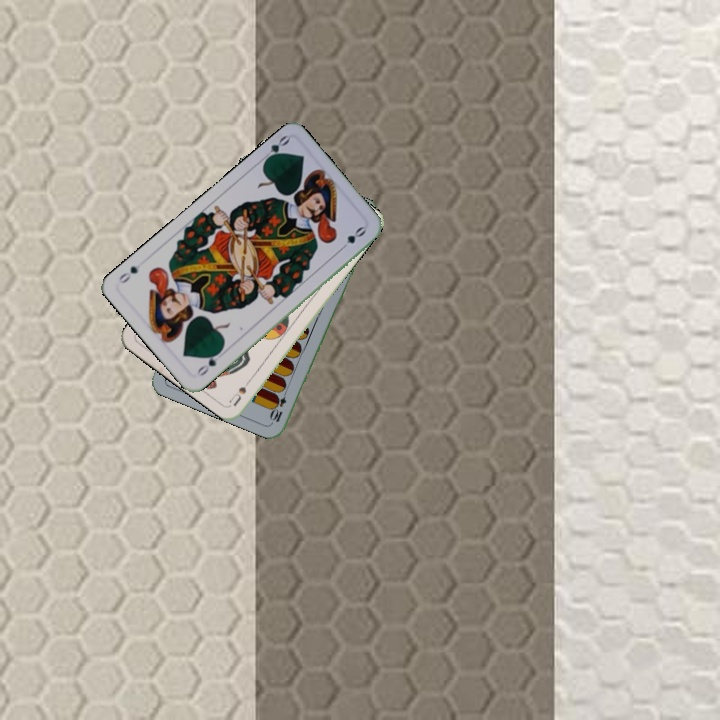E10: (267, 385, 290, 425)
GO: (257, 131, 292, 166), (193, 346, 224, 379)
SU: (226, 371, 256, 408)
